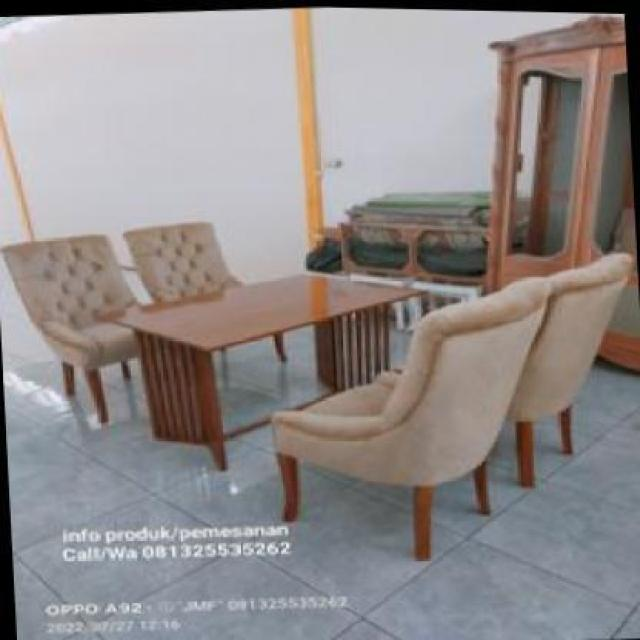tables: (96, 271, 427, 471)
